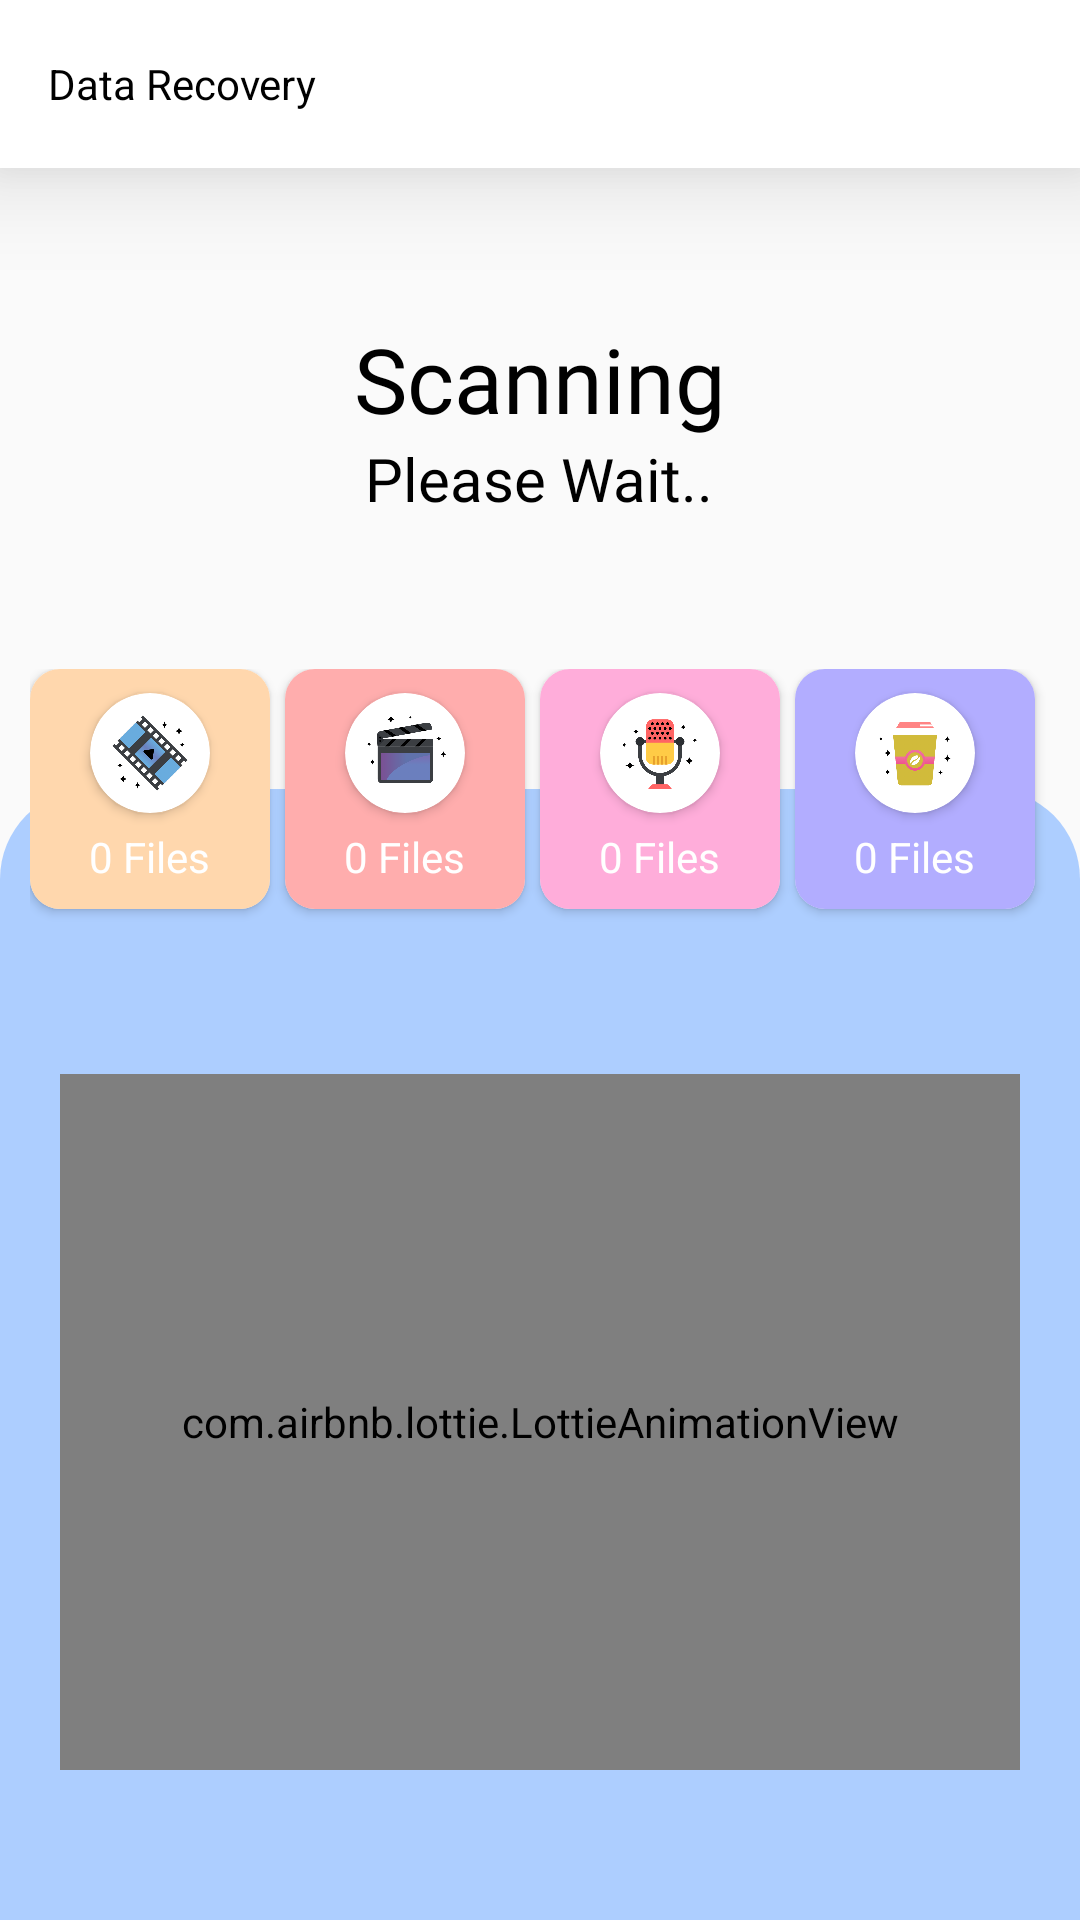

Where to tap for icons on this 1080w x 1920h app screen, as (x=x, y=y):
music: (x=660, y=753)
